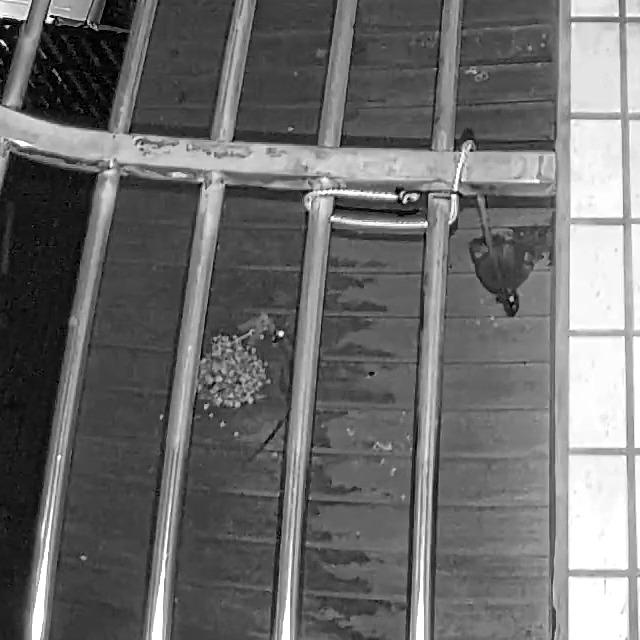rat: (244, 326, 296, 467)
